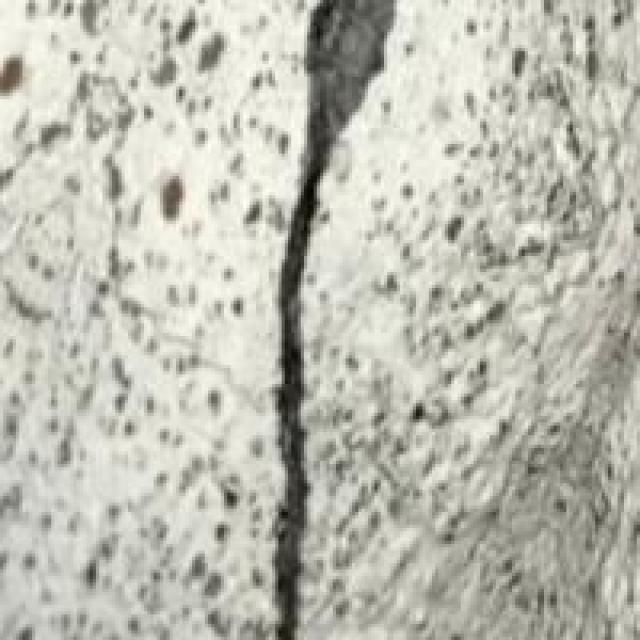crack: (215, 3, 468, 637)
